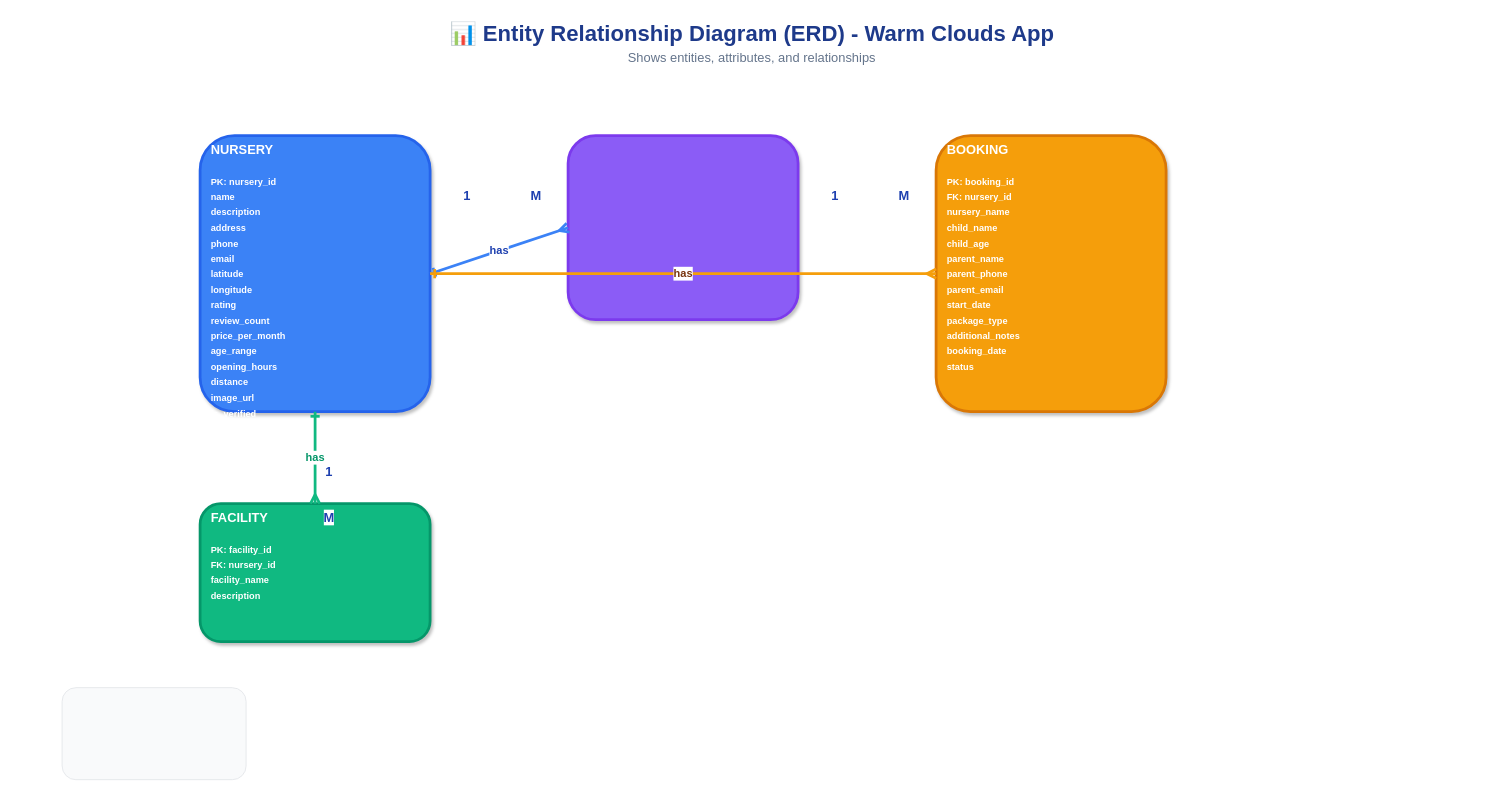
This 1503x796 diagram has some shape labels left out. Here are the shapes that lost their labels. From the top down, the centre of each, then its label:
At pixel 684 228: "REVIEW PK: review_id FK: nursery_id user_name rating comment date is_verified".
At pixel 153 733: "Legend: PK = Primary Key FK = Foreign Key 1 = One M = Many".
